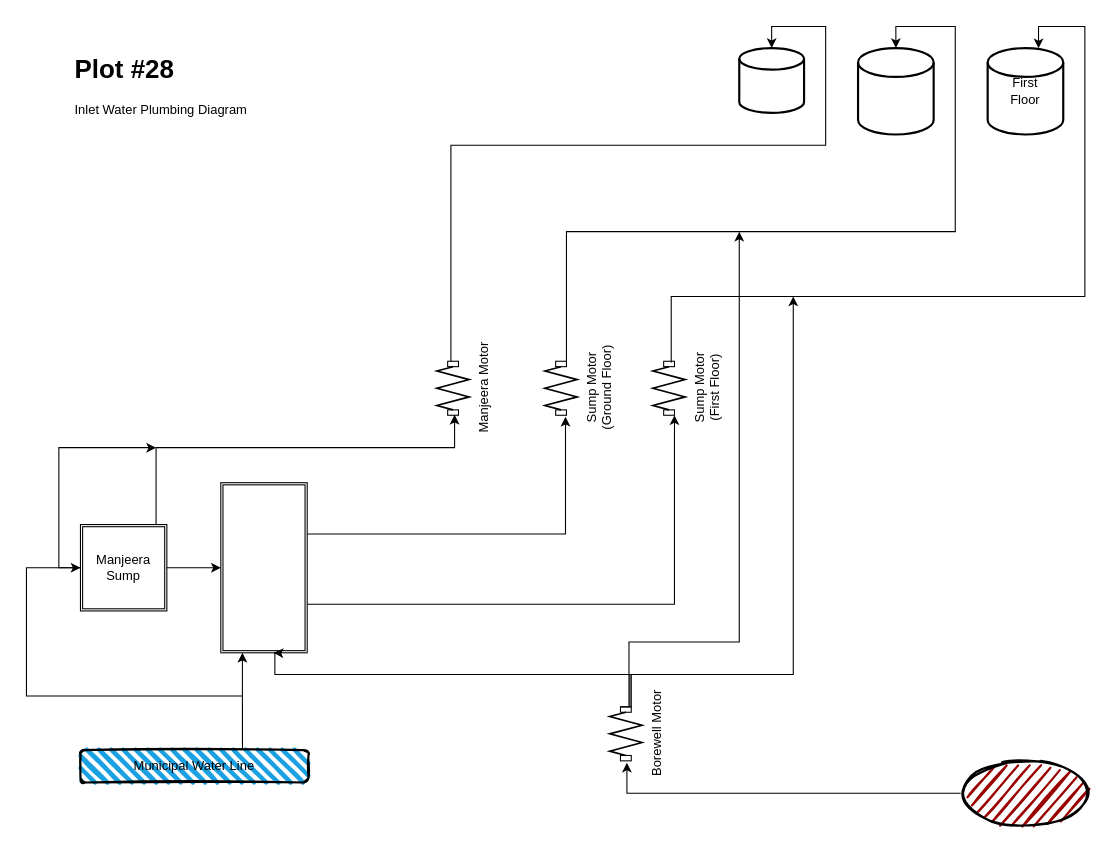
Image size: 1112x846. Some labels were removed from this diagram. Each missing label, with the centre of its shape:
"Earth" belongs at [1025,792].
"Ground Floor" belongs at [895,90].
"Manjeera" belongs at [771,79].
"Tanker Water Sump" belongs at [263,567].
